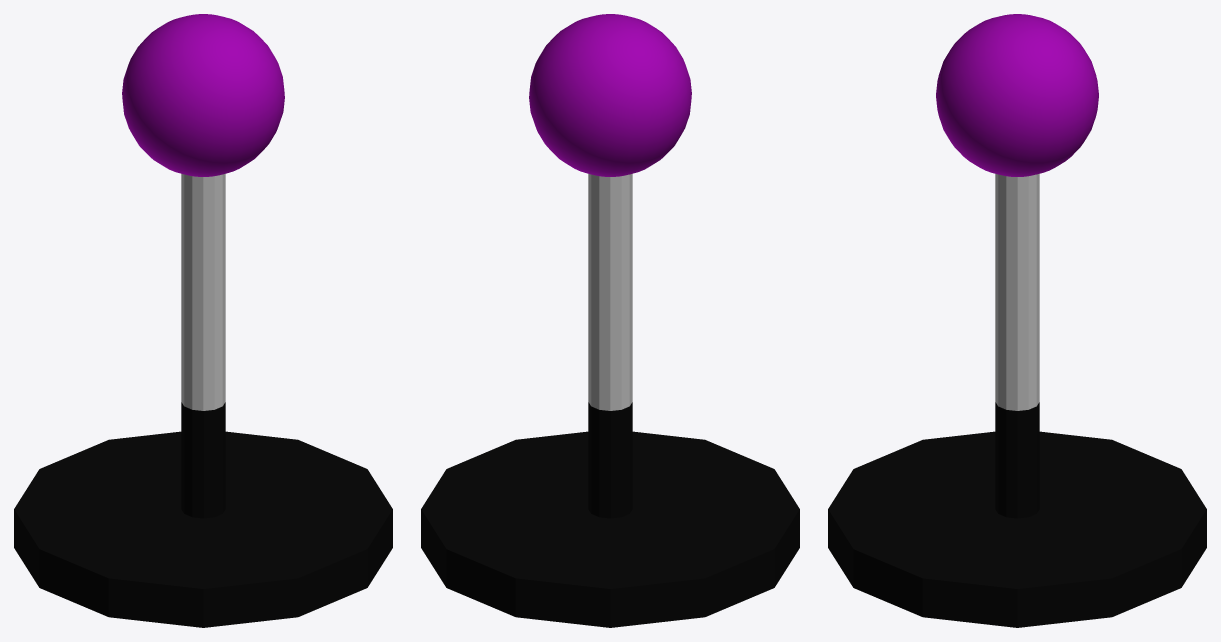
Rendered from Joystick.fbx.
3 renders of one model, left to right at view 1: azimuth 30°, elevation 25°; view 2: azimuth 150°, elevation 25°; view 3: azimuth 270°, elevation 25°, orthographic.
Visible parts, largest first — view 1: Cylinder, Cylinder.001; view 2: Cylinder, Cylinder.001; view 3: Cylinder, Cylinder.001.
Part boxes in pixels (x1,y1,x2,y2): Cylinder: (14, 431, 392, 627); Cylinder.001: (122, 14, 284, 518); Cylinder: (421, 431, 799, 627); Cylinder.001: (529, 14, 691, 518); Cylinder: (828, 431, 1206, 627); Cylinder.001: (936, 14, 1098, 518).
Bounding box in the file's own units: 200 × 307 × 200.
